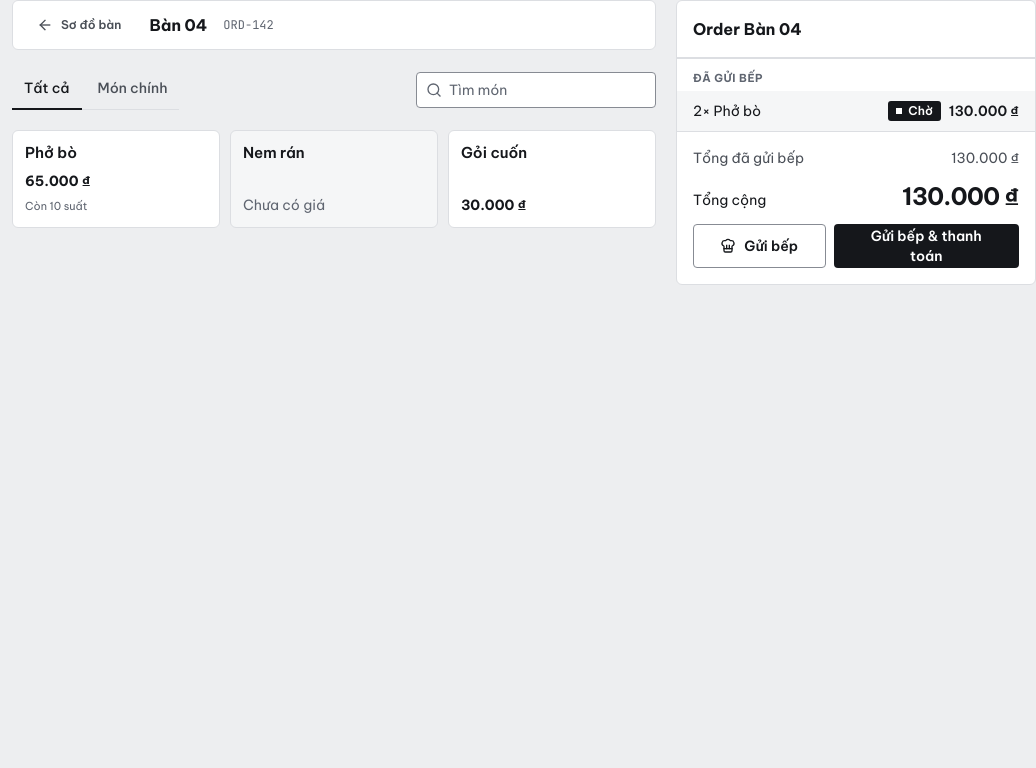
it: OrderStep › keeps the whole cart when a bulk add-more request fails
Click the button "Phở bò 65.000 ₫ Còn 10 suất" at (116, 179), box [12,130,220,228]
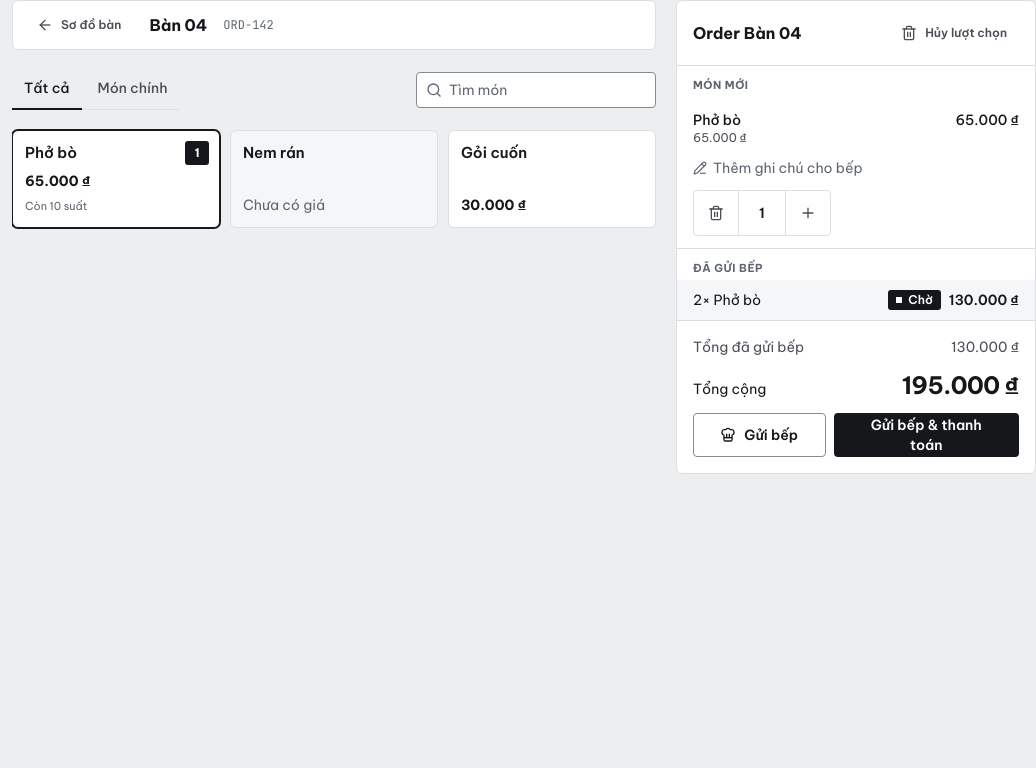
Now the number field named "Số lượng Phở bò" is shown, box [738,191,786,235]
Click the button "Gỏi cuốn 30.000 ₫" at (552, 179), box [448,130,656,228]
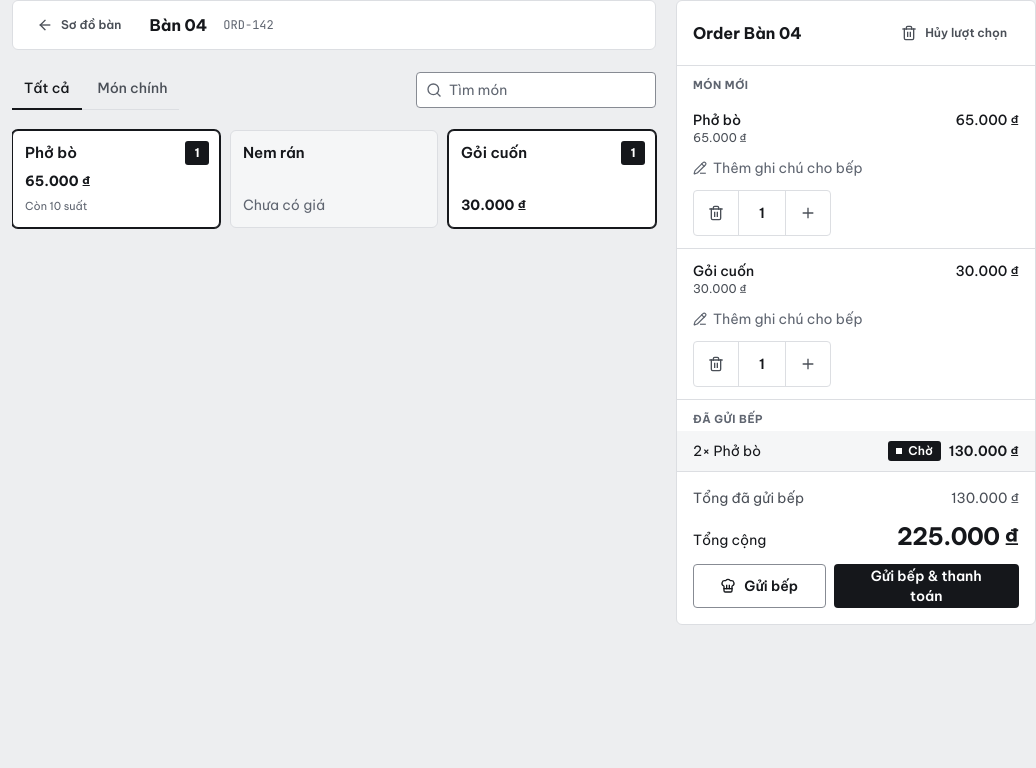
Now the number field named "Số lượng Gỏi cuốn" is shown, box [738,342,786,386]
Click the button "Gửi bếp" at (759, 586), box [693,564,826,608]
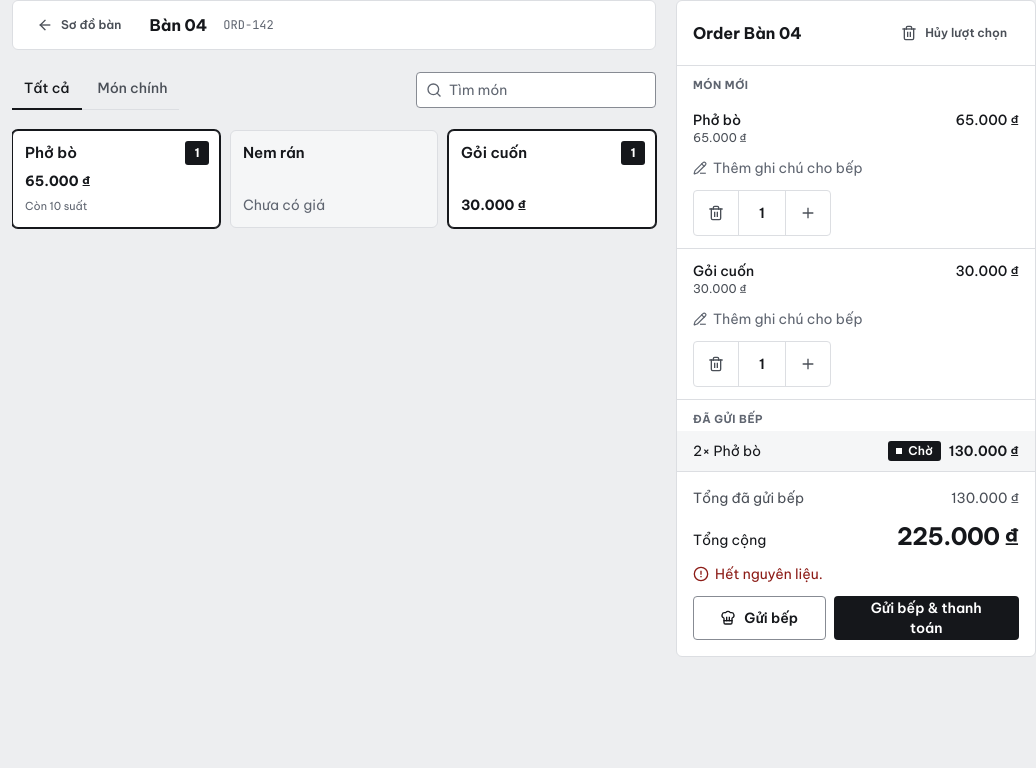
Now the number field named "Số lượng Phở bò" is shown, box [738,191,786,235]
Now the number field named "Số lượng Gỏi cuốn" is shown, box [738,342,786,386]
Now the message "Hết nguyên liệu." is shown, box [693,565,823,583]
